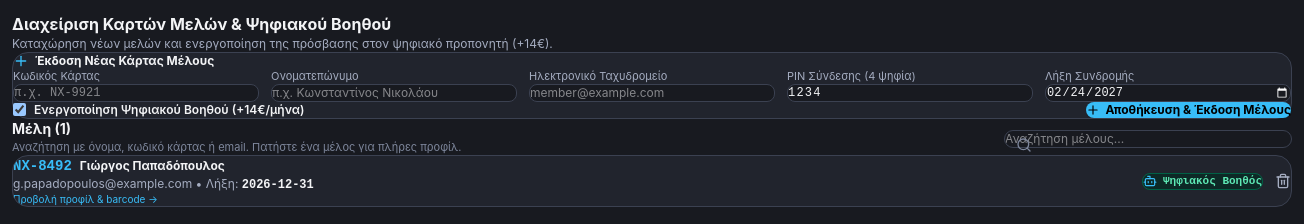
Scenario: MembersTab (admin member CRUD) › tells the admin when a search matches nothing
The width and height of the screenshot is (1304, 224).
Type "δεν-υπάρχει" into the search field labelled "Αναζήτηση μέλους".
click(1148, 139); type("δεν-υπάρχει")  # box [1004, 130, 1292, 148]
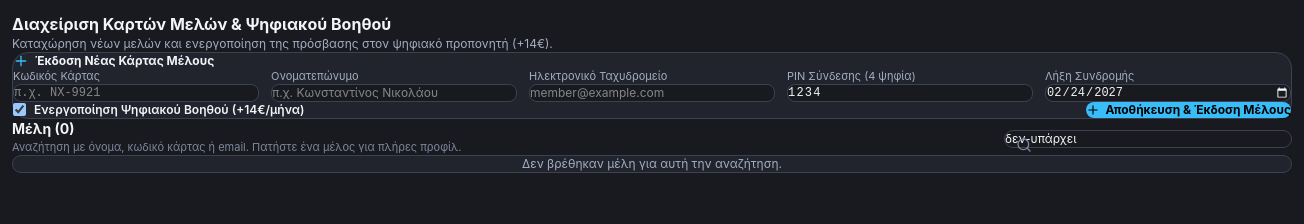
Check: the text "Δεν βρέθηκαν μέλη για αυτή την αναζήτηση." is shown, box [522, 156, 782, 171]
